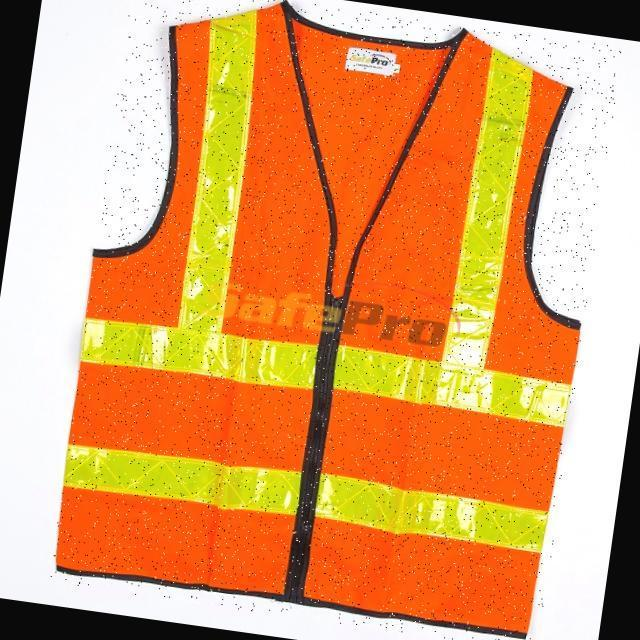vest: (49, 0, 623, 640)
